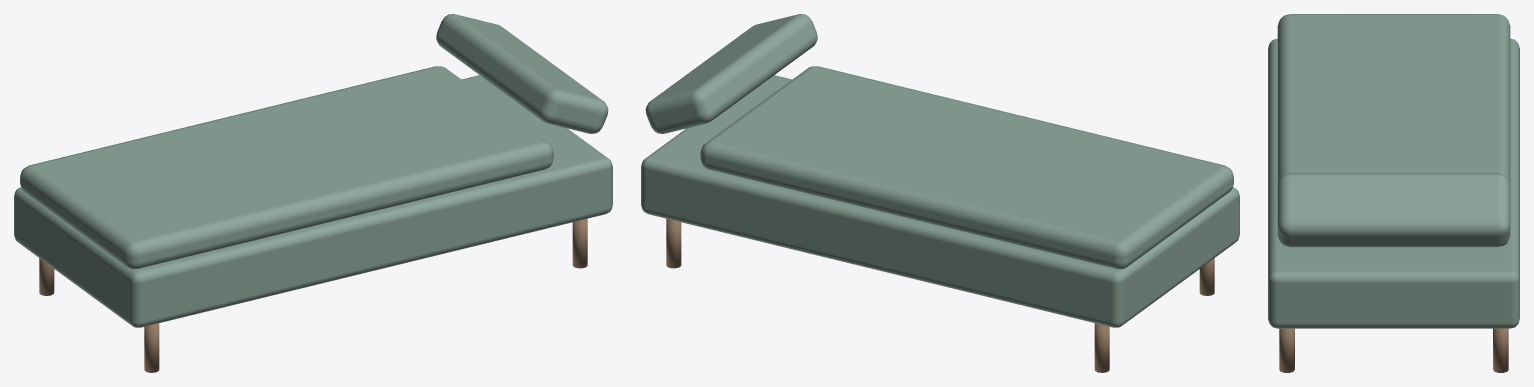
File: consulta.divan.fbx
3 renders of one model, left to right at view 1: azimuth 30°, elevation 25°; view 2: azimuth 150°, elevation 25°; view 3: azimuth 270°, elevation 25°, orthographic.
Visible parts, largest first — view 1: Colchon, Base, Cabecera, Pata.003, Pata.001, Pata.002; view 2: Colchon, Base, Cabecera, Pata.002, Pata, Pata.003; view 3: Colchon, Base, Cabecera, Pata, Pata.001.
Boxes of the visible parts, x1,y1,x2,y2 form: Colchon: (20, 66, 553, 269); Base: (14, 75, 612, 327); Cabecera: (436, 14, 608, 133); Pata.003: (144, 323, 159, 372); Pata.001: (572, 218, 587, 268); Pata.002: (39, 258, 54, 295); Colchon: (700, 66, 1233, 269); Base: (641, 75, 1239, 327); Cabecera: (645, 14, 817, 133); Pata.002: (1094, 323, 1109, 372); Pata: (666, 218, 681, 268); Pata.003: (1199, 258, 1214, 295); Colchon: (1277, 14, 1510, 184); Base: (1268, 38, 1519, 328); Cabecera: (1277, 173, 1510, 247); Pata: (1493, 328, 1508, 372); Pata.001: (1279, 328, 1294, 372).
Bounding box in the file's own units: 1.81 × 0.6439 × 0.8.
